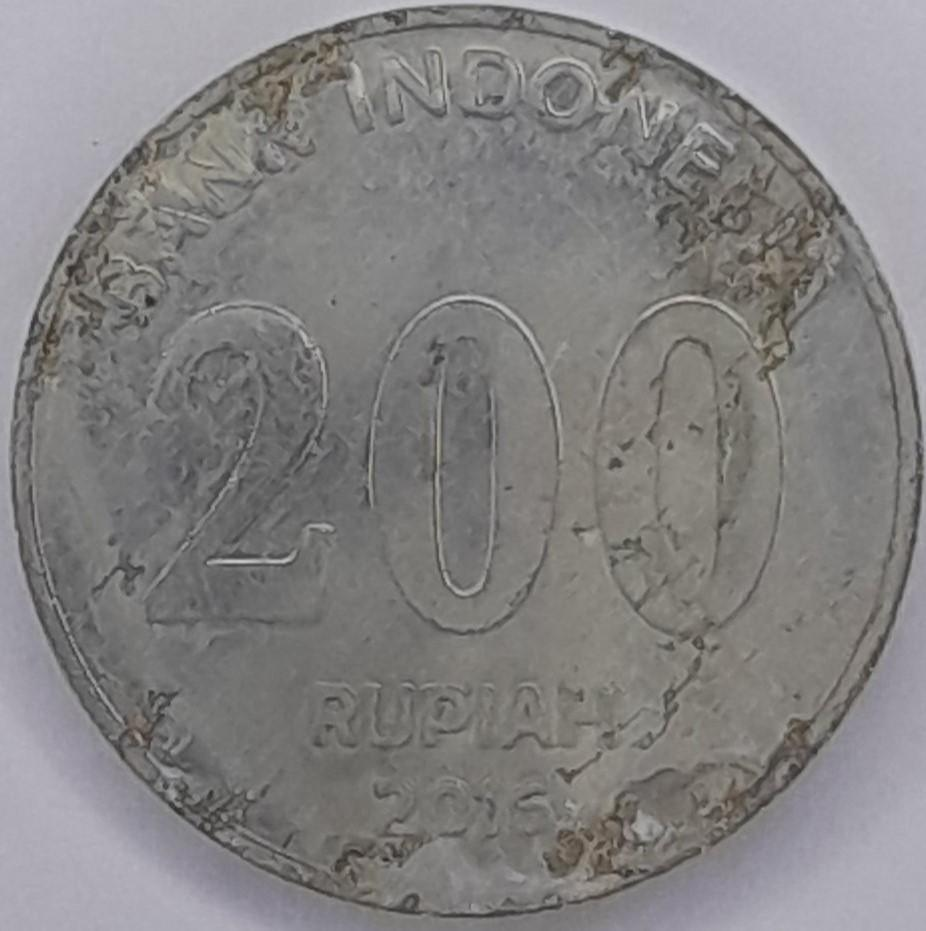coin_200_e2016: (0, 16, 926, 931)
